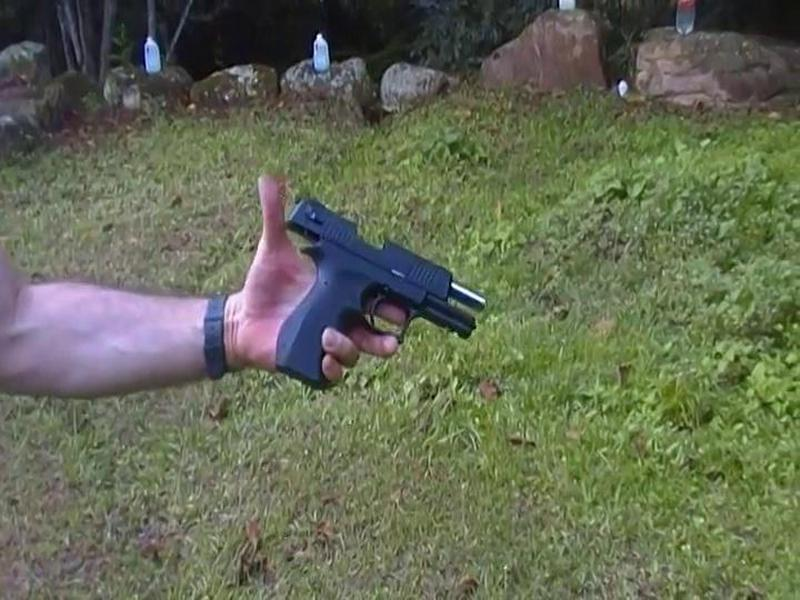Pistola: (255, 191, 490, 398)
